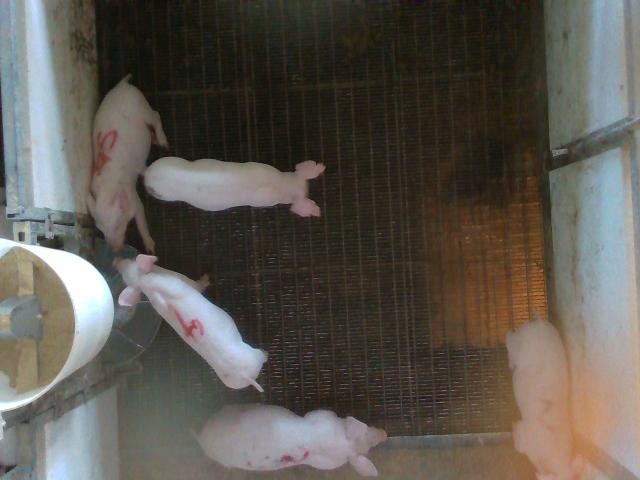pig-2: (506, 319, 574, 479)
pig-3: (196, 405, 386, 476)
pig-4: (114, 255, 268, 391)
pig-5: (88, 75, 168, 253)
